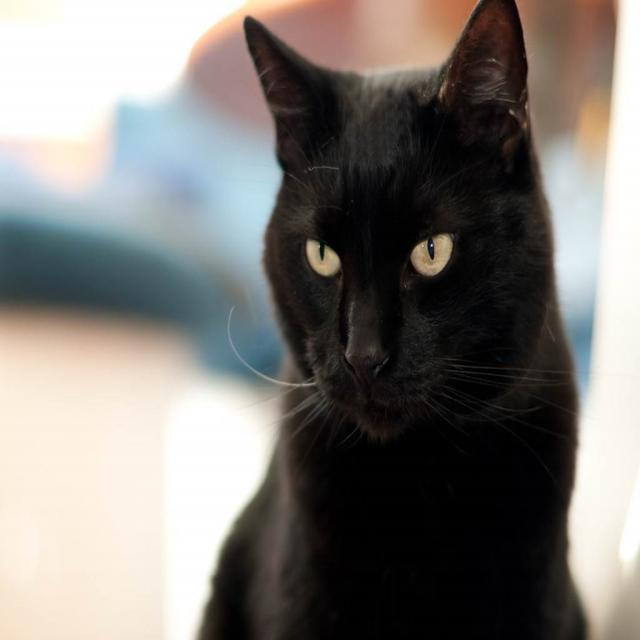black cat: (177, 0, 598, 640)
